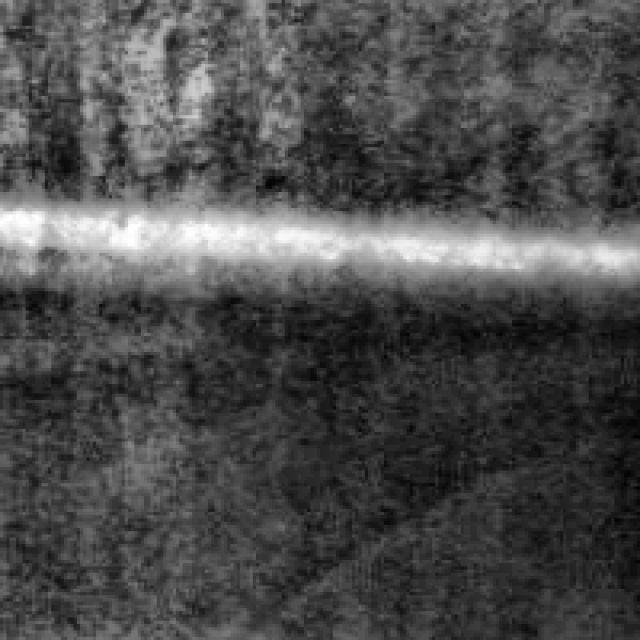Inclusion: (0, 192, 637, 282)
